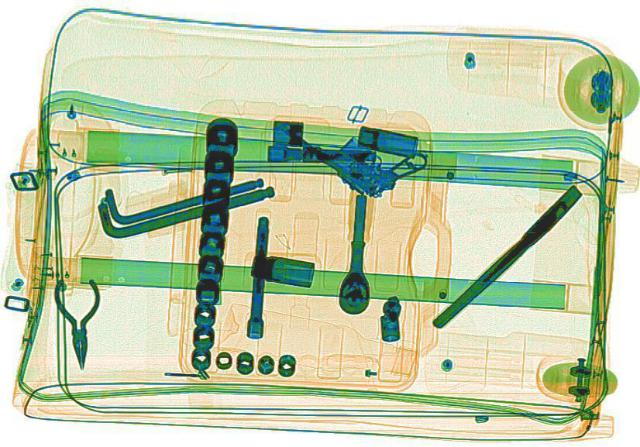Gun: (275, 89, 433, 203)
Pliers: (51, 276, 104, 369)
